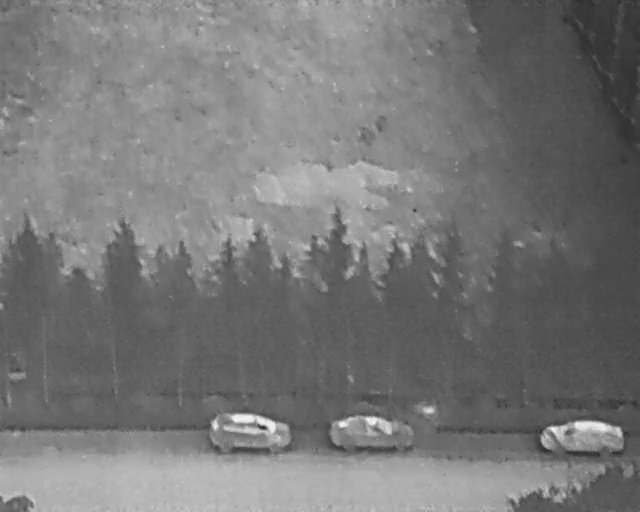Car: (210, 412, 292, 454), (329, 415, 417, 451), (540, 418, 627, 453)
